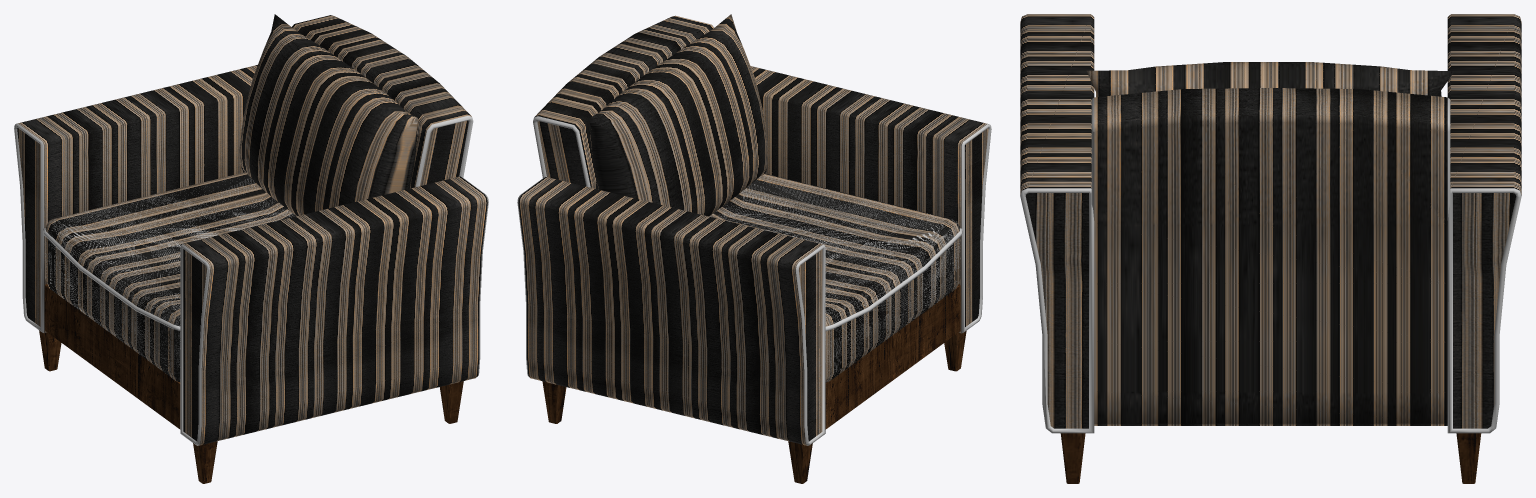
Rendered from armchair.dae.
3 renders of one model, left to right at view 1: azimuth 30°, elevation 25°; view 2: azimuth 150°, elevation 25°; view 3: azimuth 270°, elevation 25°, orthographic. The views are drawn at different scales.
Visible parts, largest first — view 1: group_1 (×13), group_0; view 2: group_1 (×13), group_0; view 3: group_1 (×9), group_0.
Part boxes in pixels (<box>): group_1 (×13): <box>14,15,487,483</box>; group_0: <box>239,14,417,215</box>; group_1 (×13): <box>518,15,991,483</box>; group_0: <box>588,14,767,216</box>; group_1 (×9): <box>1020,14,1521,483</box>; group_0: <box>1087,62,1454,96</box>.
Bounding box in the file's own units: 35.18 × 39.54 × 34.2.
